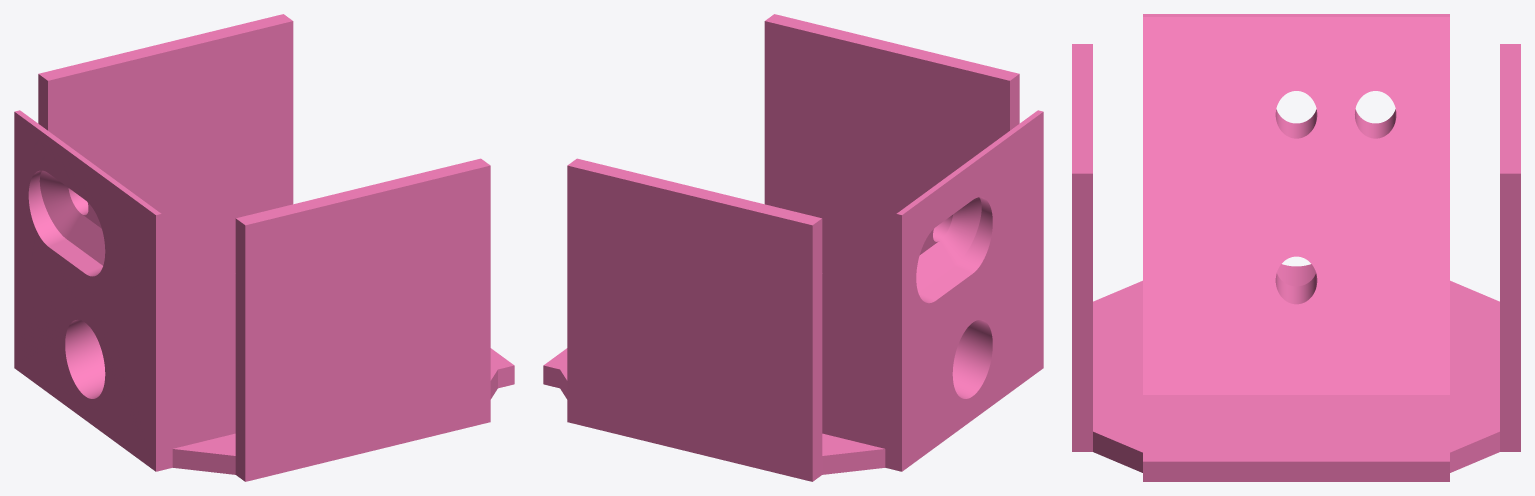
Rendered from Cube 1x1 V5_Mirror Base Vertical.obj.
The picture shows the model from 3 angles, left to right: view 1: azimuth 30°, elevation 25°; view 2: azimuth 150°, elevation 25°; view 3: azimuth 270°, elevation 25°; orthographic projection. The views are drawn at different scales.
Parts seen in each view (by area): view 1: Solid1:23; view 2: Solid1:23; view 3: Solid1:23.
Boxes of the visible parts, left/top/right/bottom form: Solid1:23: left=14, top=14, right=514, bottom=481; Solid1:23: left=543, top=14, right=1043, bottom=481; Solid1:23: left=1072, top=14, right=1520, bottom=481.
Size of the model in its own units: 49.65 by 33.95 by 49.65.
